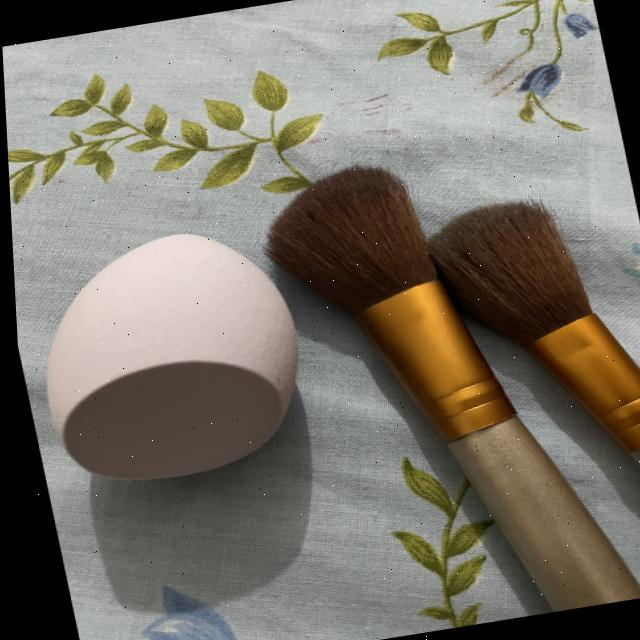beauty blender: (9, 209, 326, 517)
brush: (247, 120, 640, 454), (400, 171, 640, 622), (245, 142, 476, 322)
